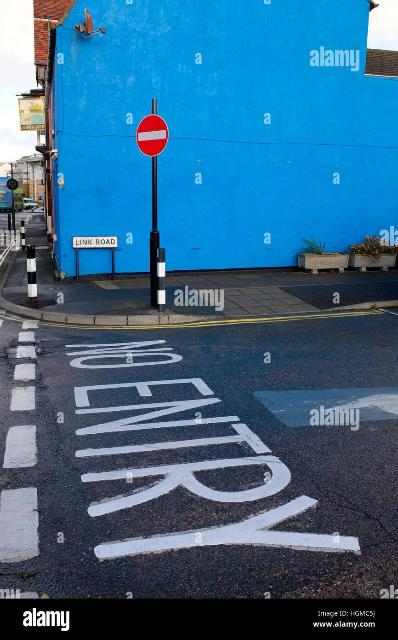B2: (135, 113, 169, 157)
